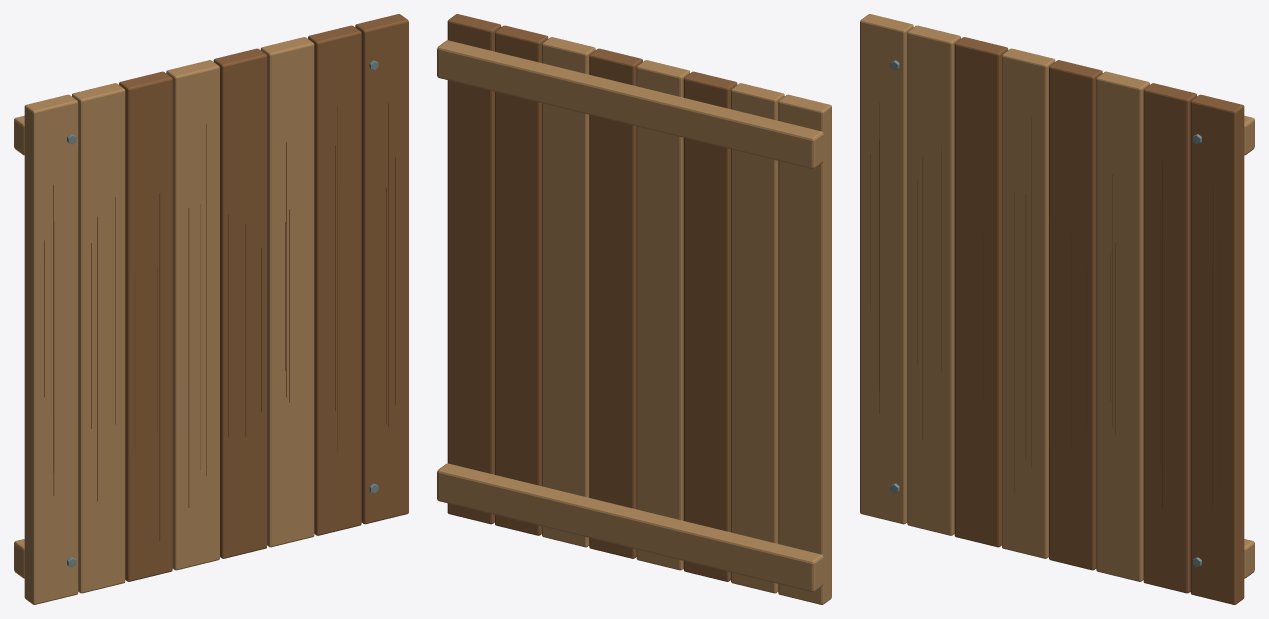
File: SM_WoodWall_200.fbx
3 renders of one model, left to right at view 1: azimuth 30°, elevation 25°; view 2: azimuth 150°, elevation 25°; view 3: azimuth 330°, elevation 25°, orthographic.
Parts seen in each view (by area): view 1: SM_WoodWall_200; view 2: SM_WoodWall_200; view 3: SM_WoodWall_200.
Part boxes in pixels (x1,y1,x2,y2): SM_WoodWall_200: [14, 14, 408, 604]; SM_WoodWall_200: [437, 14, 831, 604]; SM_WoodWall_200: [860, 14, 1254, 604].
Size of what is drawn, in the model's own units: 2 by 0.199 by 2.5.
